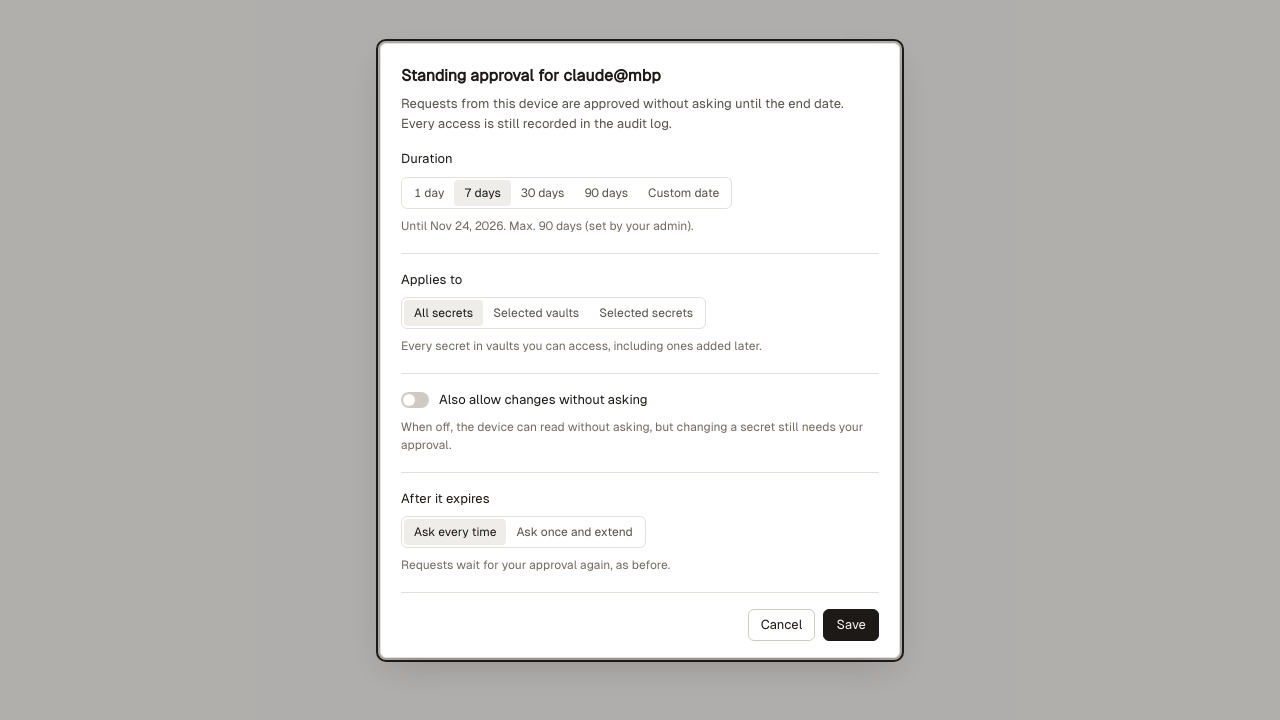
Test: StandingApprovalDialog › requires a secret or "add created secrets" for selected secrets
This screenshot has width=1280, height=720.
Later steps or results of the test are not shown.
Click the button "Selected secrets" at [646, 313], box 589,300 -> 703,326
(page scrolled)
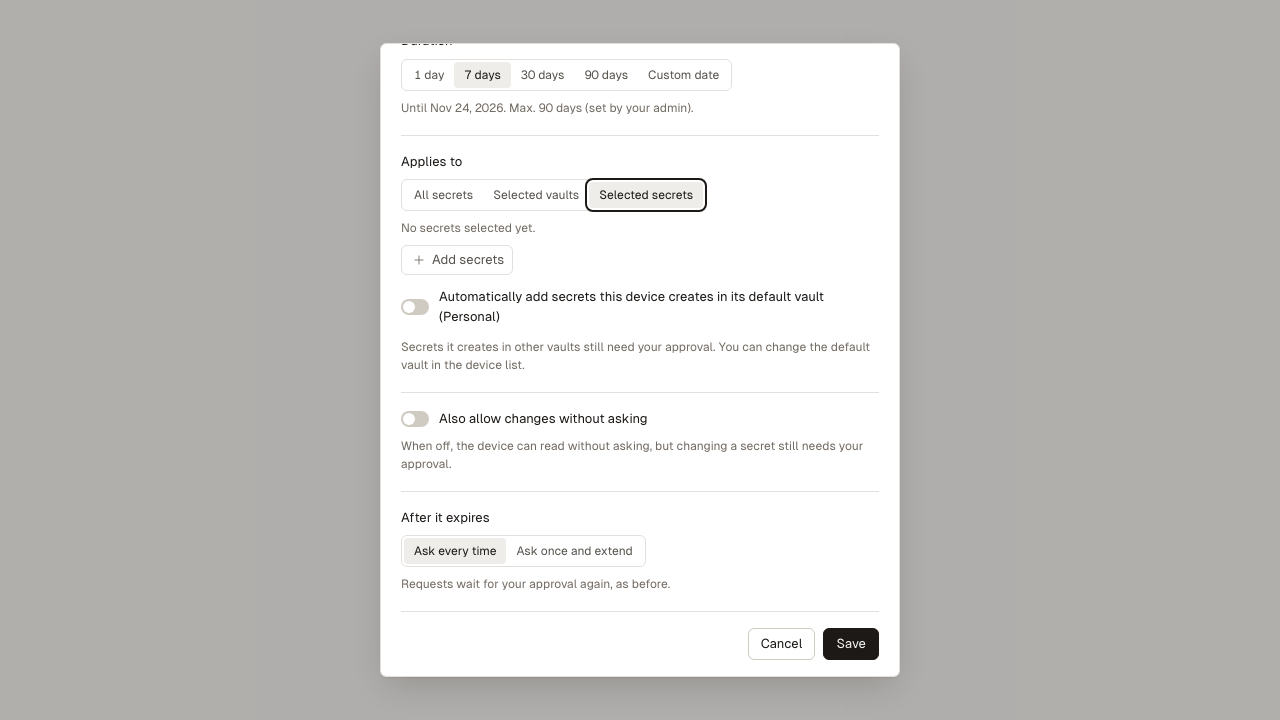
Expected: the text "No secrets selected yet." is shown, 401,219 -> 535,237
Click the button "Save" at [851, 644], box 824,628 -> 879,660
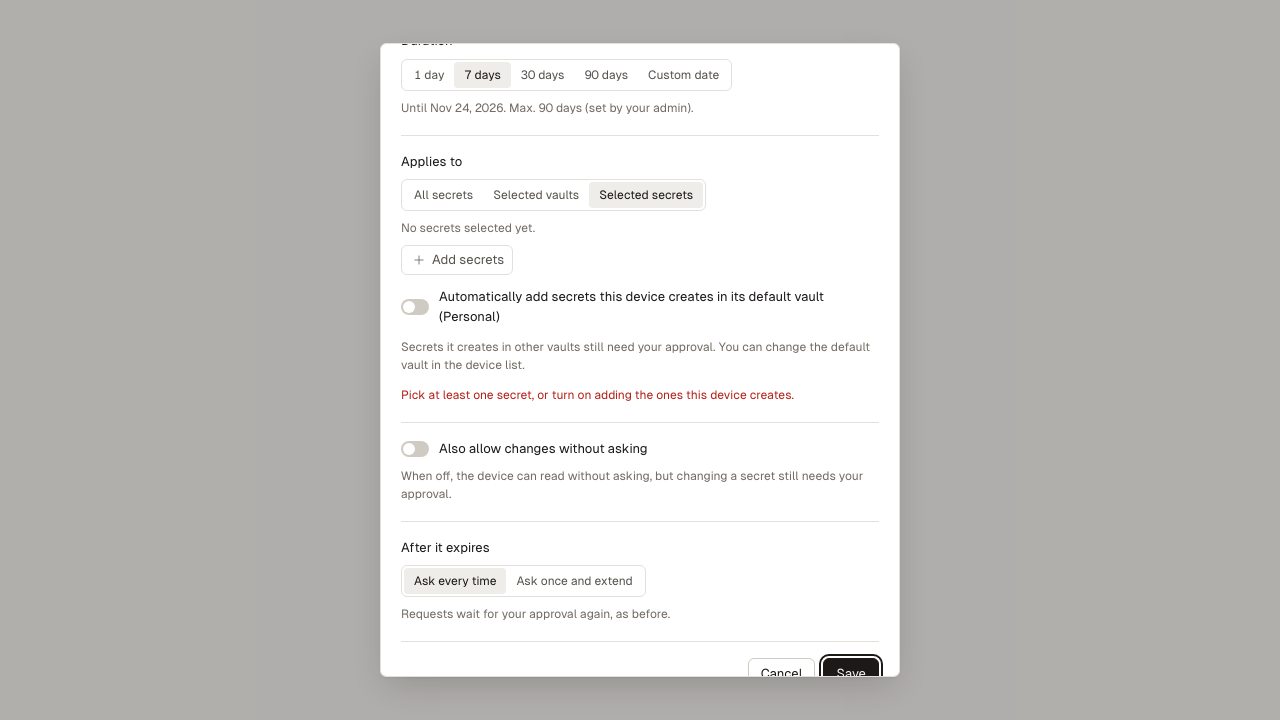
Expected: the message shows "Pick at least one secret", 401,388 -> 794,402
Click the switch labelled "Automatically add secrets this device creates in its default vault (Personal)" at [640, 307], box 401,287 -> 879,326
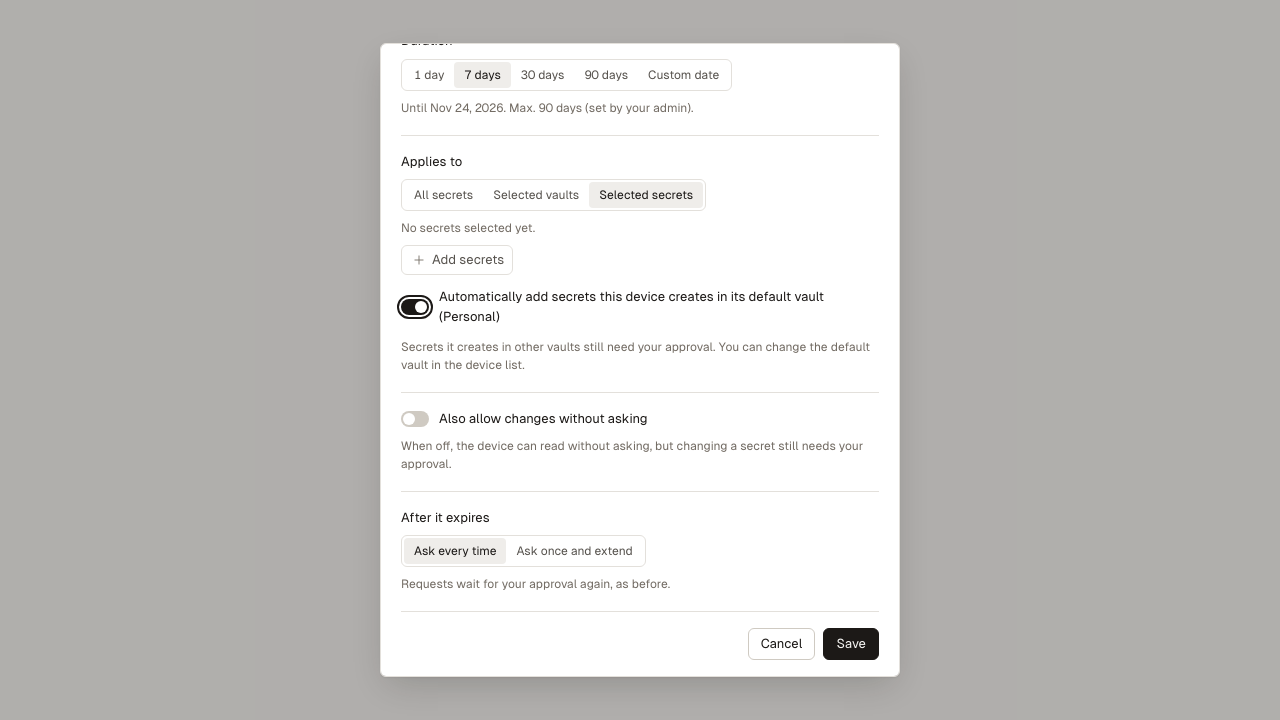
Expected: the message "Pick at least one secret, or turn on adding the ones this device creates." is gone
